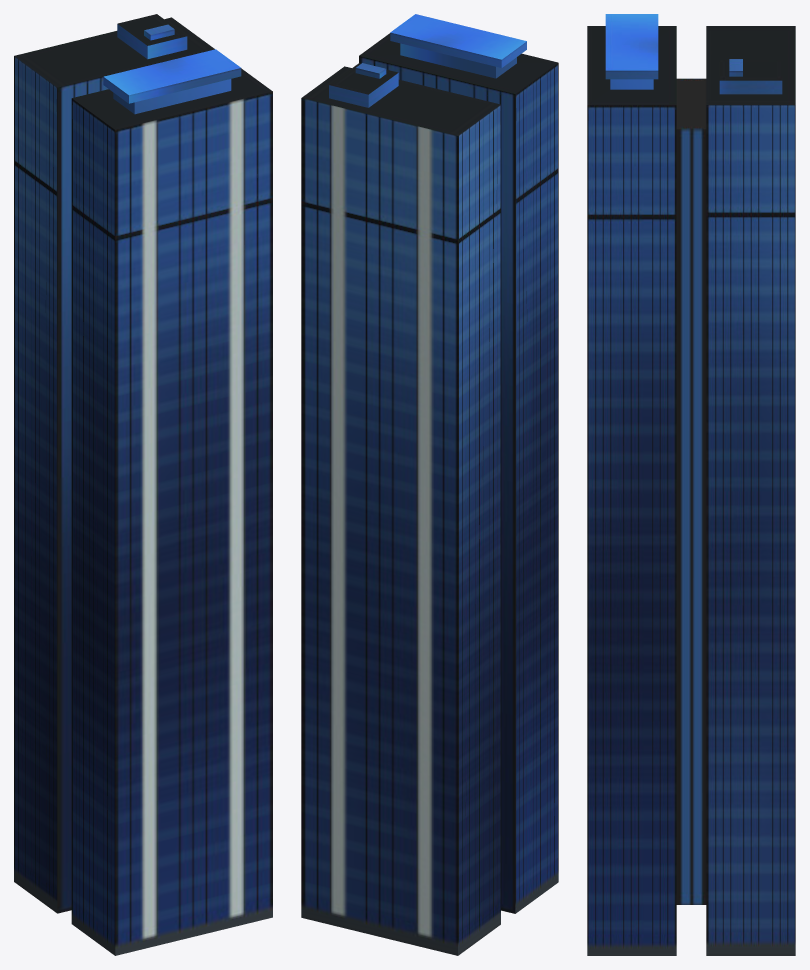
Rendered from House_19(2).FBX.
The picture shows the model from 3 angles, left to right: view 1: azimuth 30°, elevation 25°; view 2: azimuth 150°, elevation 25°; view 3: azimuth 270°, elevation 25°; orthographic projection. The views are drawn at different scales.
Parts seen in each view (by area): view 1: House_19; view 2: House_19; view 3: House_19.
Boxes of the visible parts, left/top/right/bottom form: House_19: left=14, top=14, right=272, bottom=955; House_19: left=301, top=14, right=558, bottom=955; House_19: left=587, top=14, right=795, bottom=955.
Bounding box in the file's own units: 22.98 × 118 × 25.54.
1 material, 1 textured.
